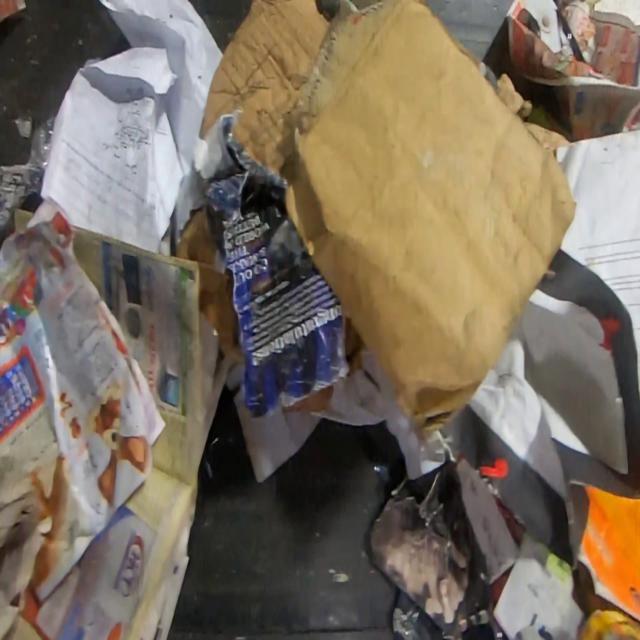cardboard: (200, 0, 578, 442), (172, 208, 247, 364), (342, 314, 368, 378), (282, 384, 333, 413)
soft_plastic: (30, 116, 56, 173)
